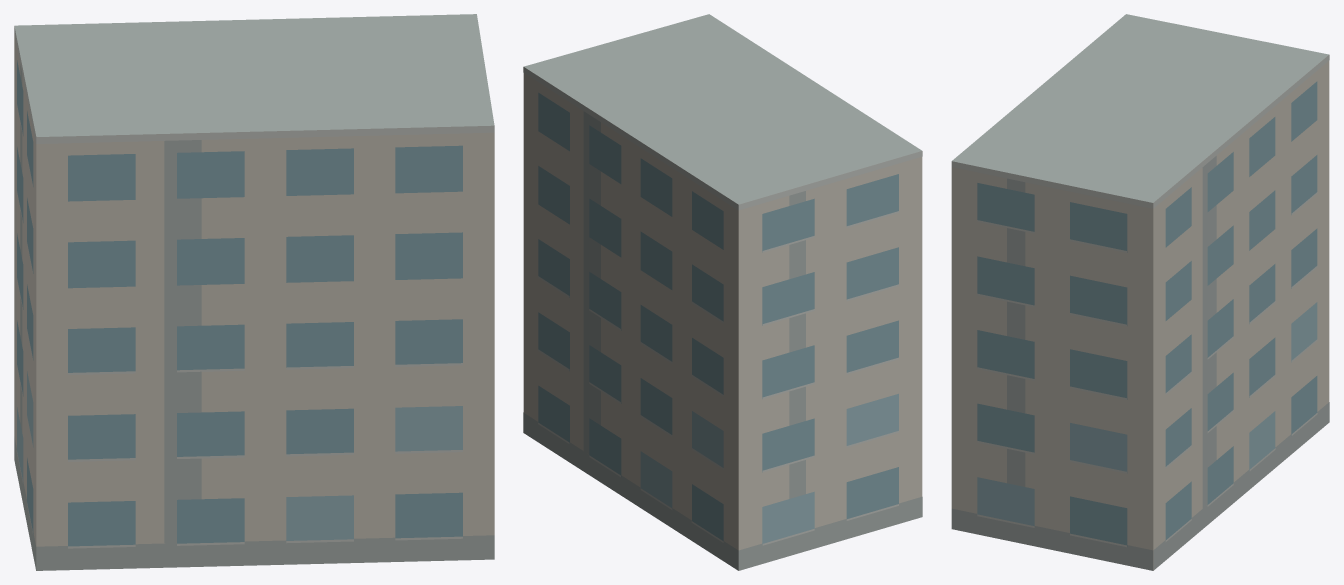
The model's file is survey-upis-32842181.glb.
The picture shows the model from 3 angles, left to right: view 1: azimuth 30°, elevation 25°; view 2: azimuth 150°, elevation 25°; view 3: azimuth 270°, elevation 25°; orthographic projection. The views are drawn at different scales.
Parts seen in each view (by area): view 1: survey-upis-32842181.tmp; view 2: survey-upis-32842181.tmp; view 3: survey-upis-32842181.tmp.
Boxes of the visible parts, <box> form: survey-upis-32842181.tmp: <box>14,14,494,570</box>; survey-upis-32842181.tmp: <box>523,14,922,570</box>; survey-upis-32842181.tmp: <box>951,14,1329,570</box>.
Size of the model in its own units: 16.86 by 15.3 by 14.25.
